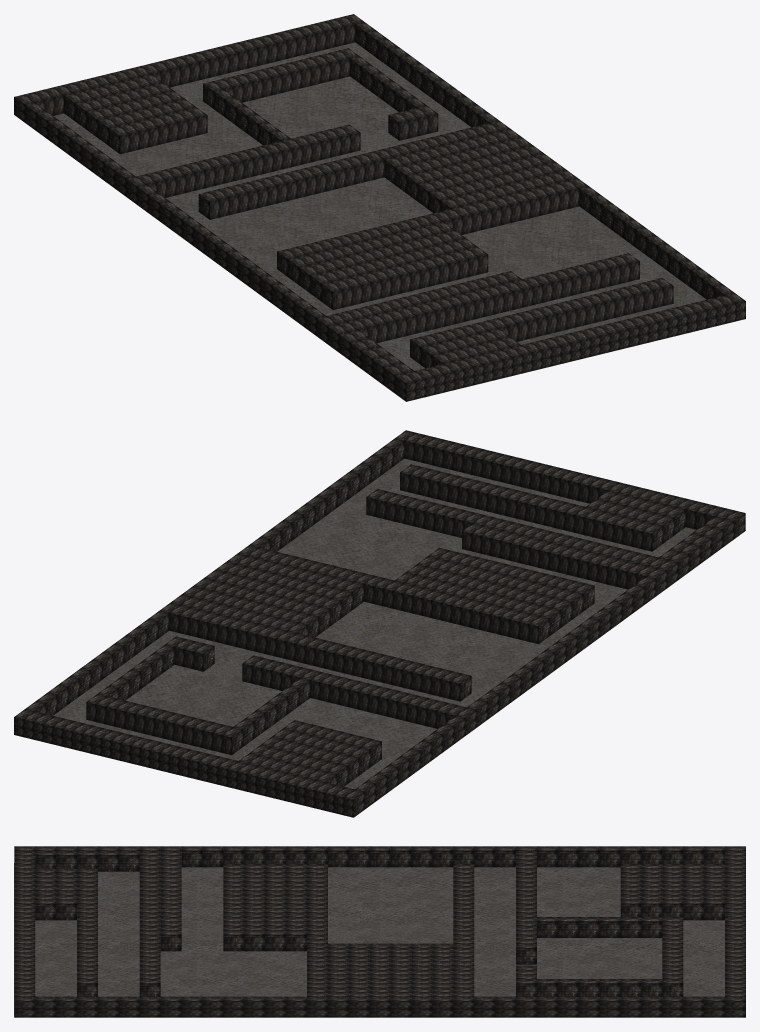
Rendered from map_1.FBX.
The picture shows the model from 3 angles, top to bottom: view 1: azimuth 30°, elevation 25°; view 2: azimuth 150°, elevation 25°; view 3: azimuth 270°, elevation 25°; orthographic projection. The views are drawn at different scales.
Parts seen in each view (by area): view 1: Box001, Plane001; view 2: Box001, Plane001; view 3: Box001, Plane001.
Part boxes in pixels (x1,y1,x2,y2): Box001: (14, 14, 745, 401); Plane001: (15, 42, 745, 401); Box001: (14, 430, 745, 817); Plane001: (53, 458, 744, 817); Box001: (14, 846, 745, 1017); Plane001: (14, 863, 724, 1016).
Bounding box in the file's own units: 100 × 5 × 200.
Materials: 2 (2 with a texture image).
